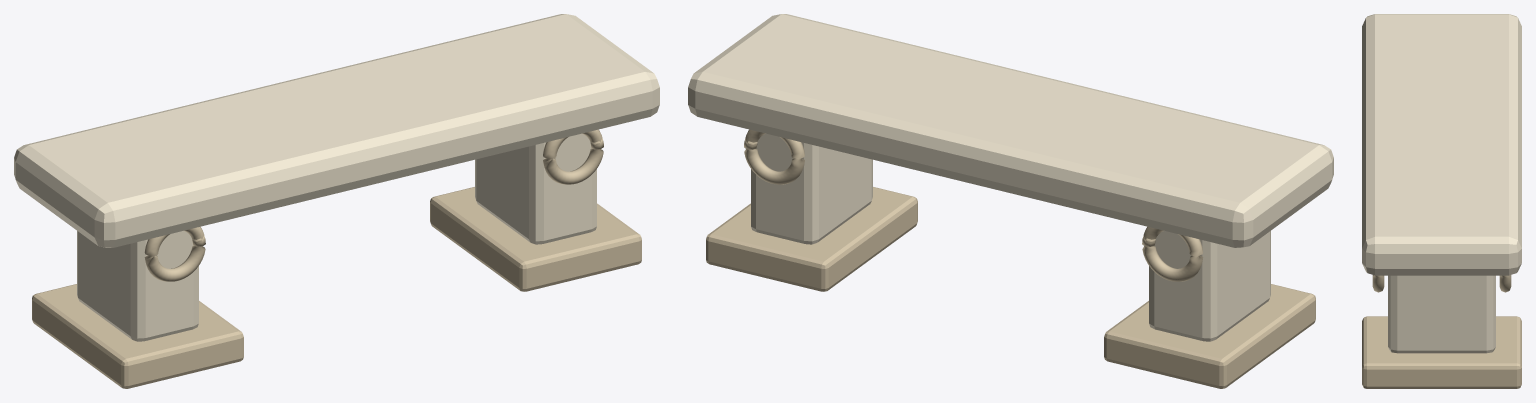
Rendered from marble-bench.glb.
3 renders of one model, left to right at view 1: azimuth 30°, elevation 25°; view 2: azimuth 150°, elevation 25°; view 3: azimuth 270°, elevation 25°, orthographic. The views are drawn at different scales.
Visible parts, largest first — view 1: marble-bench__marble, marble-bench__limestone; view 2: marble-bench__marble, marble-bench__limestone; view 3: marble-bench__marble, marble-bench__limestone.
Boxes of the visible parts, left/top/right/bottom form: marble-bench__marble: left=14, top=14, right=659, bottom=341; marble-bench__limestone: left=32, top=129, right=641, bottom=388; marble-bench__marble: left=688, top=14, right=1333, bottom=341; marble-bench__limestone: left=706, top=129, right=1315, bottom=388; marble-bench__marble: left=1362, top=14, right=1521, bottom=353; marble-bench__limestone: left=1362, top=275, right=1521, bottom=388.
Bounding box in the file's own units: 2.35 × 0.74 × 0.68.
